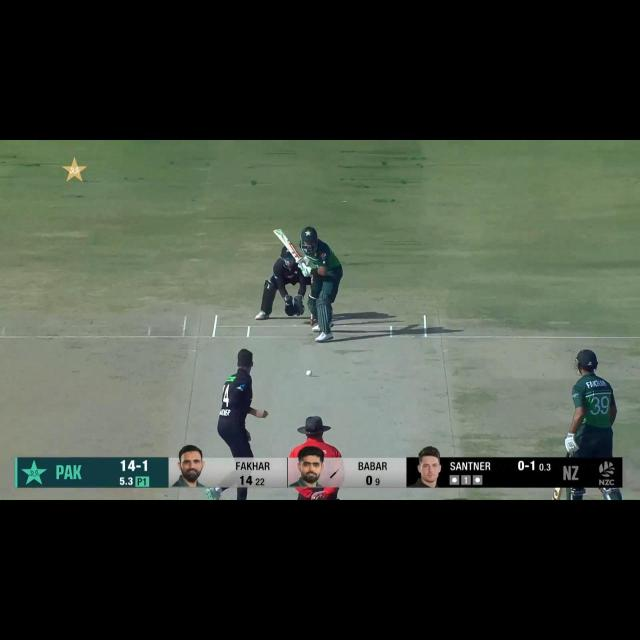bat: (272, 229, 300, 260), (550, 487, 563, 502)
toe: (272, 228, 288, 238), (552, 496, 560, 501)
